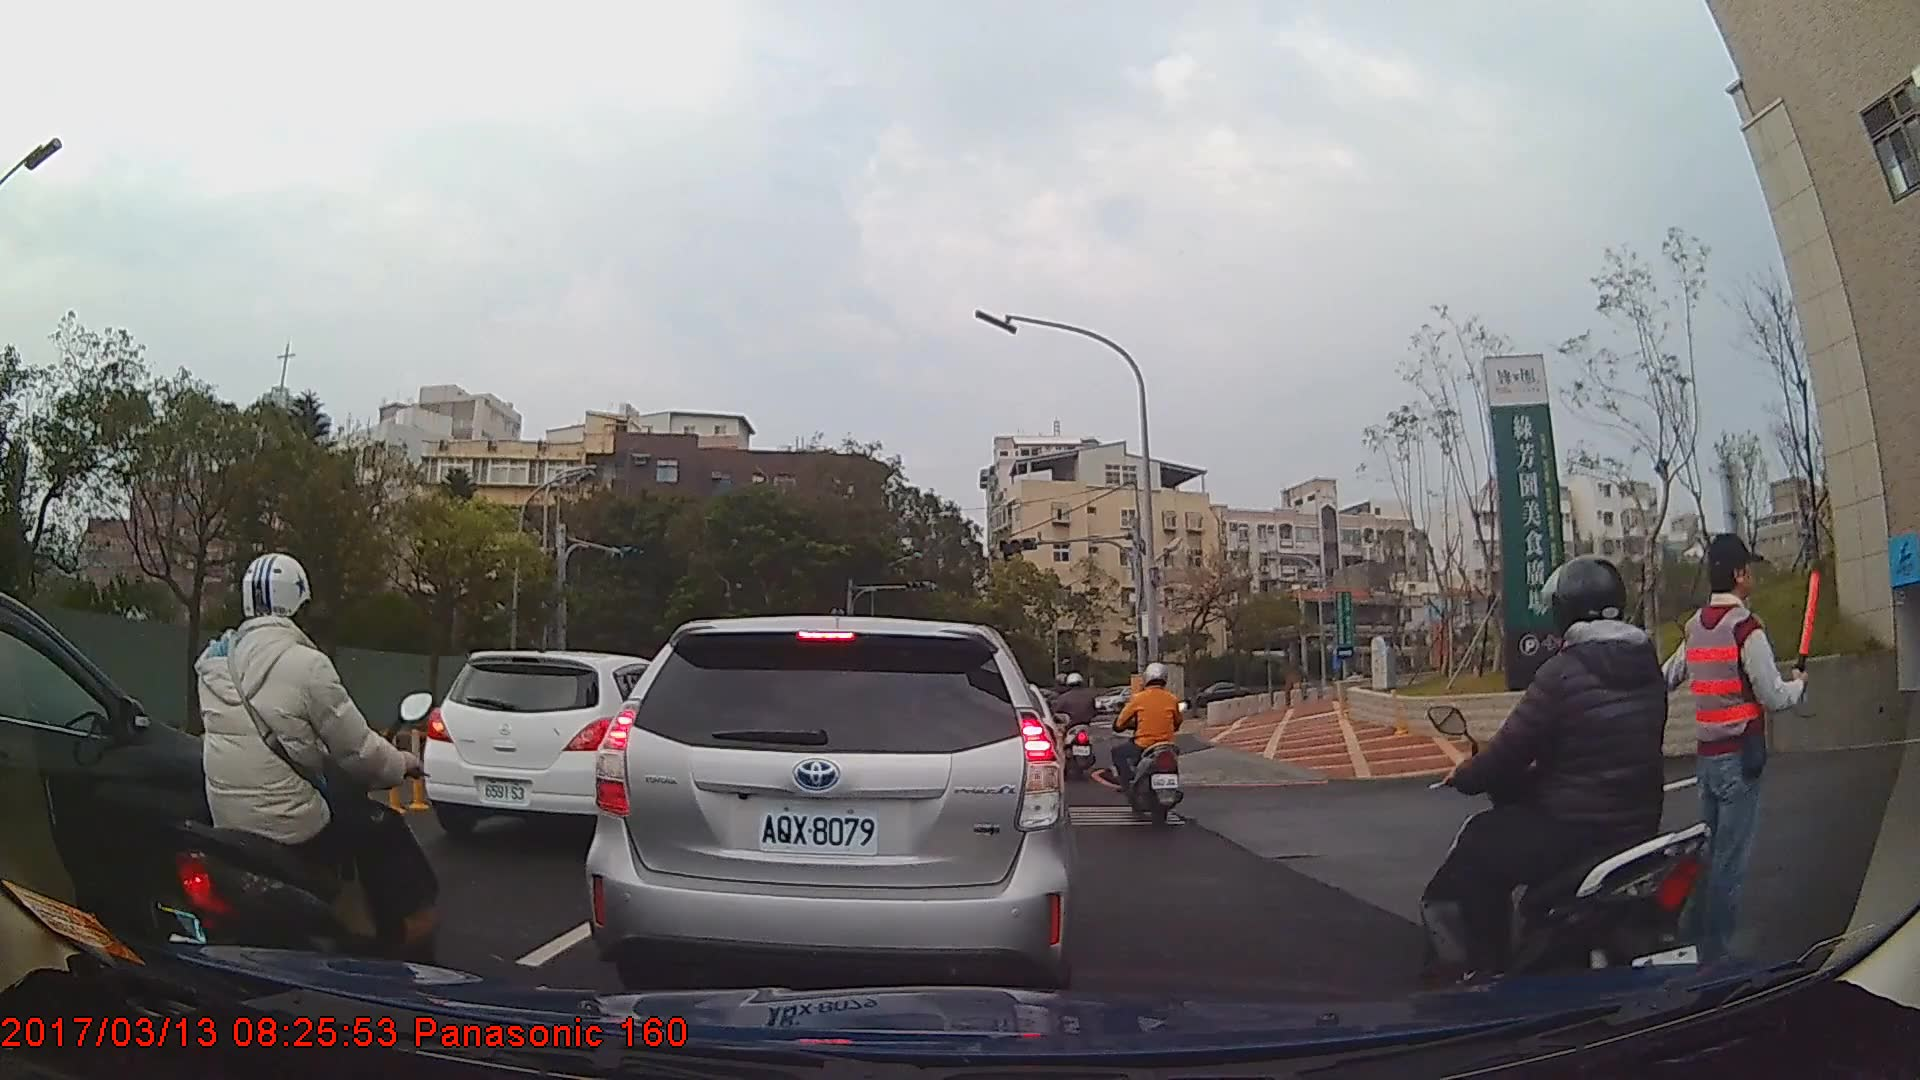rider: (150, 552, 446, 1028), (1429, 556, 1733, 998), (1109, 656, 1191, 823), (1056, 668, 1101, 780)
vehicle: (580, 614, 1076, 989), (0, 587, 282, 951), (421, 649, 691, 841), (1183, 679, 1253, 716)
